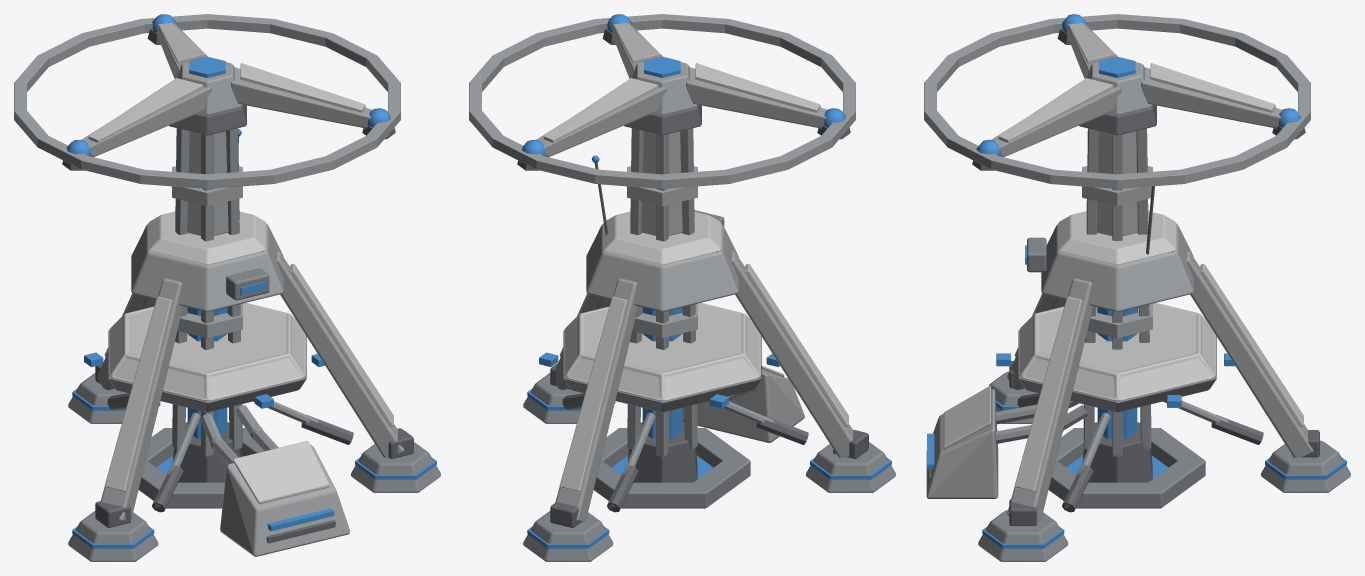
Rendered from lattice_deep_extractor.glb.
3 views of the same model, side by side, from view 1: azimuth 30°, elevation 25°; view 2: azimuth 150°, elevation 25°; view 3: azimuth 270°, elevation 25° (orthographic).
Visible parts, largest first — view 1: Body, Rotor_Y; view 2: Body, Rotor_Y; view 3: Body, Rotor_Y.
Boxes of the visible parts, box(x1,y1,x2,y2) form: Body: box(68, 104, 440, 561); Rotor_Y: box(14, 14, 400, 188); Body: box(523, 104, 895, 561); Rotor_Y: box(469, 14, 855, 188); Body: box(926, 104, 1350, 561); Rotor_Y: box(924, 14, 1310, 188).
Size of the model in its own units: 6.15 by 6.86 by 6.46.
